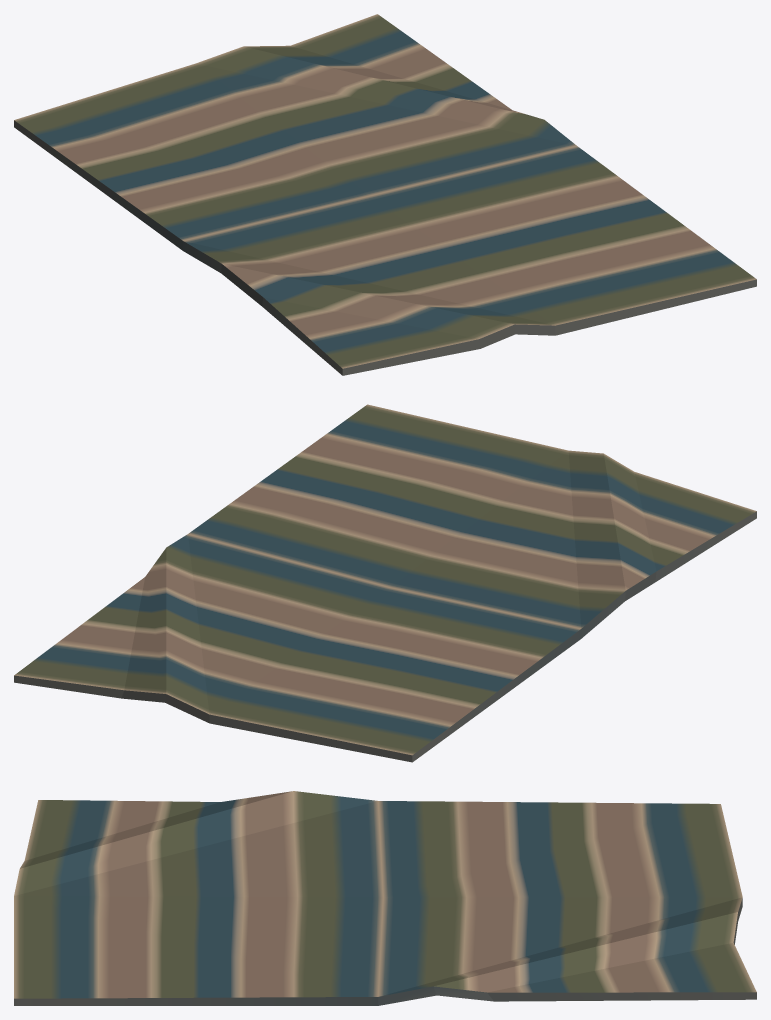
The model's file is SM_Prop_Rug_33.glb.
3 views of the same model, one above another, from view 1: azimuth 30°, elevation 25°; view 2: azimuth 150°, elevation 25°; view 3: azimuth 270°, elevation 25° (orthographic).
Visible parts, largest first — view 1: SM_Prop_Rug_33; view 2: SM_Prop_Rug_33; view 3: SM_Prop_Rug_33.
Boxes of the visible parts, left/top/right/bottom form: SM_Prop_Rug_33: left=14, top=14, right=756, bottom=375; SM_Prop_Rug_33: left=14, top=404, right=756, bottom=762; SM_Prop_Rug_33: left=14, top=791, right=756, bottom=1005.
Size of the model in its own units: 1.96 by 0.0908 by 3.1.
Materials: 1 (1 with a texture image).
